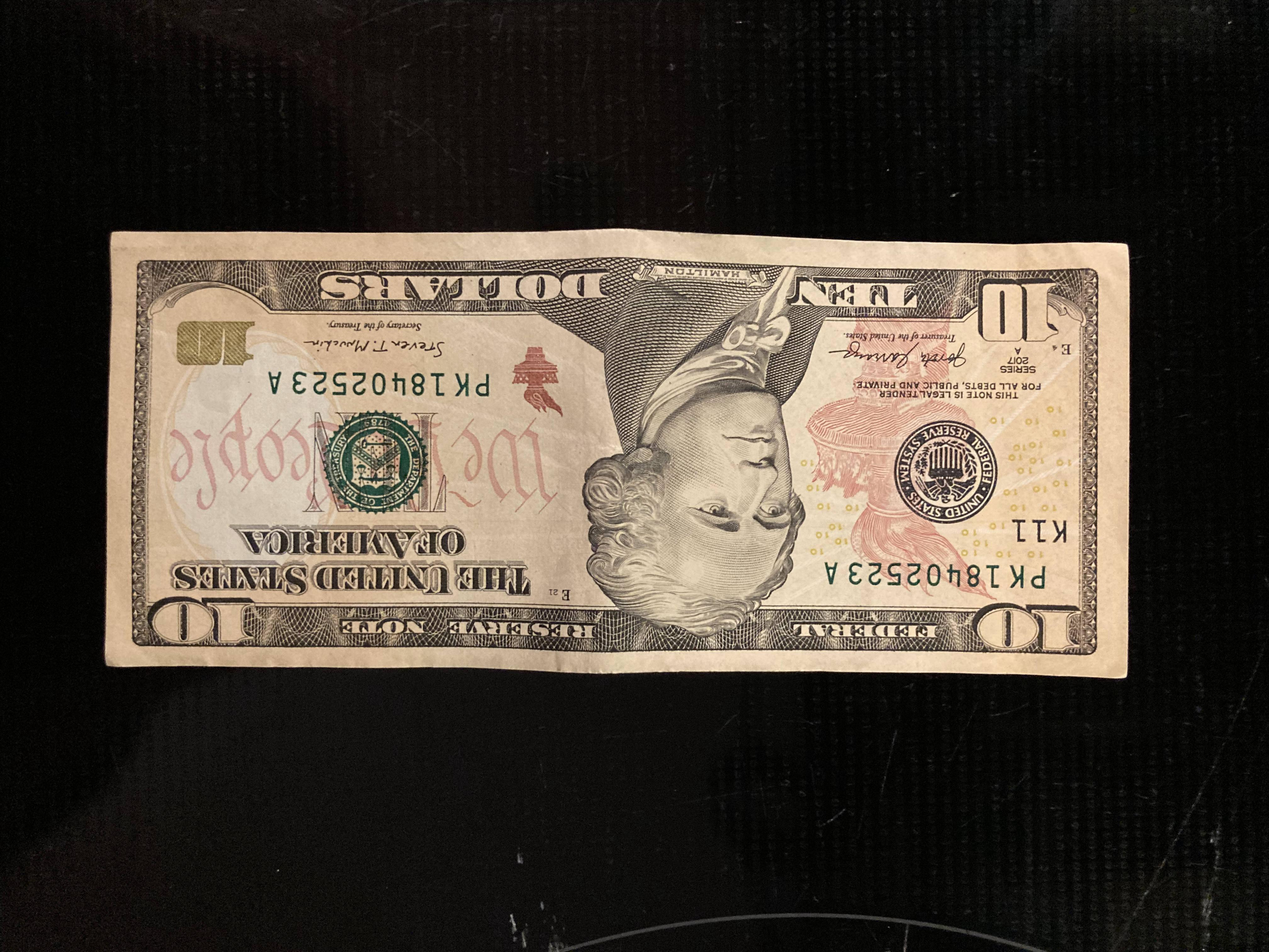ten-front: (105, 230, 1131, 680)
